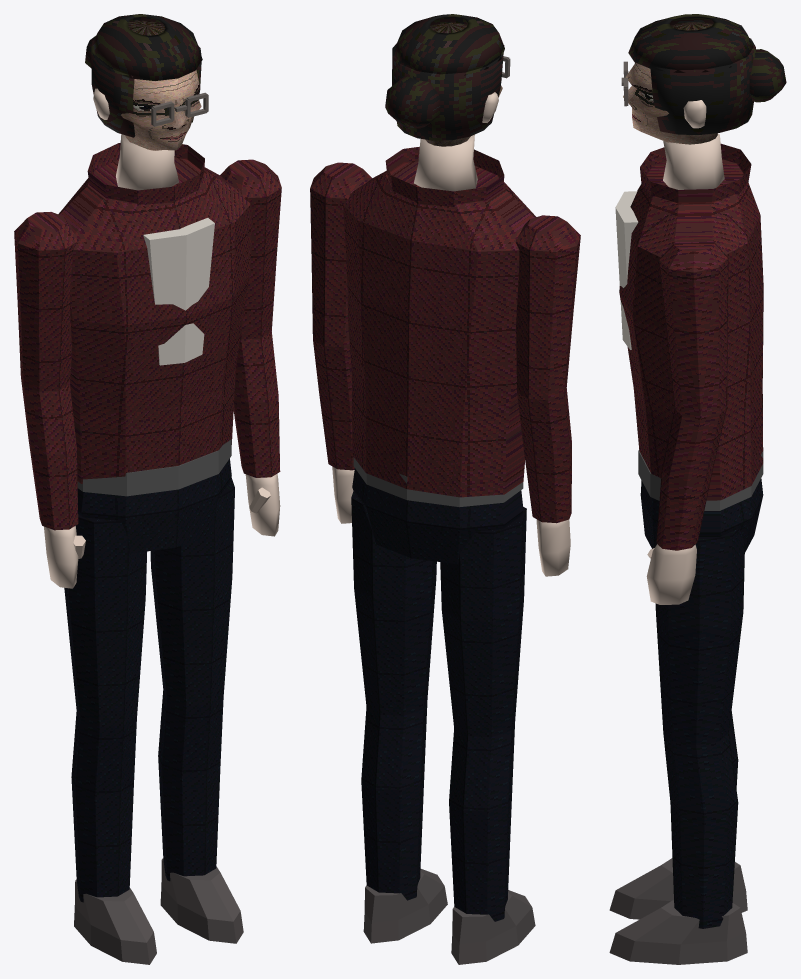
Rendered from char_zuzana.glb.
The picture shows the model from 3 angles, left to right: view 1: azimuth 30°, elevation 25°; view 2: azimuth 150°, elevation 25°; view 3: azimuth 270°, elevation 25°; orthographic projection.
Parts seen in each view (by area): view 1: JacketTorso, LegL_Pivot_Leg, LegR_Pivot_Leg, ArmSleeve_L, ArmSleeve_R, Pelvis, ShirtCollar, HairPulledCrown, LegR_Pivot_Boot, LegL_Pivot_Boot, OrganicHeadMesh, Belt (+5 smaller); view 2: JacketTorso, LegL_Pivot_Leg, LegR_Pivot_Leg, ArmSleeve_L, ArmSleeve_R, Pelvis, HairPulledCrown, HairPulledBack, LegL_Pivot_Boot, LegR_Pivot_Boot, JacketCollarRim, NeckOrganic (+5 smaller); view 3: LegR_Pivot_Leg, JacketTorso, ArmSleeve_R, LegR_Pivot_Boot, HairPulledBack, HairPulledCrown, LegL_Pivot_Boot, NeckOrganic, Pelvis, OrganicHeadMesh, Hand_R, JacketCollarRim (+4 smaller).
Part boxes in pixels (x1,y1,x2,y2): JacketTorso: [58, 157, 251, 483]; LegL_Pivot_Leg: [64, 514, 147, 902]; LegR_Pivot_Leg: [150, 477, 234, 881]; ArmSleeve_L: [14, 212, 78, 530]; ArmSleeve_R: [220, 159, 281, 477]; Pelvis: [77, 458, 231, 553]; ShirtCollar: [143, 218, 214, 365]; HairPulledCrown: [92, 14, 202, 80]; LegR_Pivot_Boot: [160, 858, 243, 943]; LegL_Pivot_Boot: [74, 879, 156, 964]; OrganicHeadMesh: [121, 20, 201, 150]; Belt: [77, 439, 231, 496]; JacketTorso: [343, 161, 536, 497]; LegL_Pivot_Leg: [440, 506, 526, 921]; LegR_Pivot_Leg: [351, 491, 436, 900]; ArmSleeve_L: [515, 215, 580, 523]; ArmSleeve_R: [310, 162, 371, 470]; Pelvis: [352, 468, 523, 564]; HairPulledCrown: [392, 14, 504, 75]; HairPulledBack: [392, 43, 504, 140]; LegL_Pivot_Boot: [451, 890, 535, 964]; LegR_Pivot_Boot: [363, 869, 447, 943]; JacketCollarRim: [385, 146, 504, 206]; NeckOrganic: [414, 134, 477, 191]; LegR_Pivot_Leg: [654, 525, 744, 928]; JacketTorso: [619, 159, 763, 500]; ArmSleeve_R: [656, 235, 728, 550]; LegR_Pivot_Boot: [609, 900, 747, 964]; HairPulledBack: [650, 38, 755, 134]; HairPulledCrown: [628, 14, 753, 72]; LegL_Pivot_Boot: [609, 858, 747, 919]; NeckOrganic: [663, 133, 724, 189]; Pelvis: [640, 478, 763, 552]; OrganicHeadMesh: [623, 22, 717, 144]; Hand_R: [646, 544, 696, 604]; JacketCollarRim: [640, 143, 751, 203].
Size of the model in its own units: 0.5139 by 1.7 by 0.3008.
Materials: 9 (4 with a texture image).
